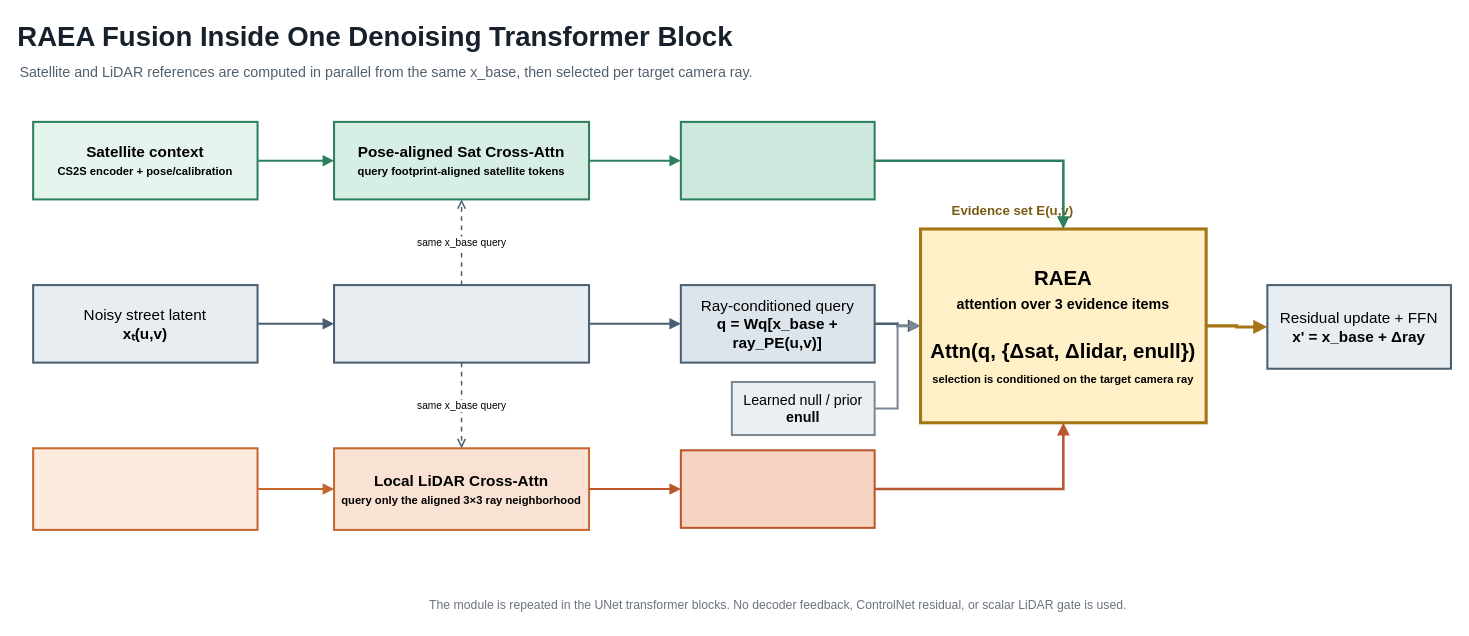
Image size: 1469x636. Some labels were removed from this diagram. Each missing label, with the box of its shape:
LiDAR evidence Δlidar(u,v): (679, 449, 875, 528)
Ray-depth LiDAR tokens 3D/Utonia feature routed to 8×32 rays: (32, 447, 258, 530)
Satellite evidence Δsat(u,v): (679, 120, 875, 200)
Self-attention x_base(u,v): (333, 284, 590, 363)
